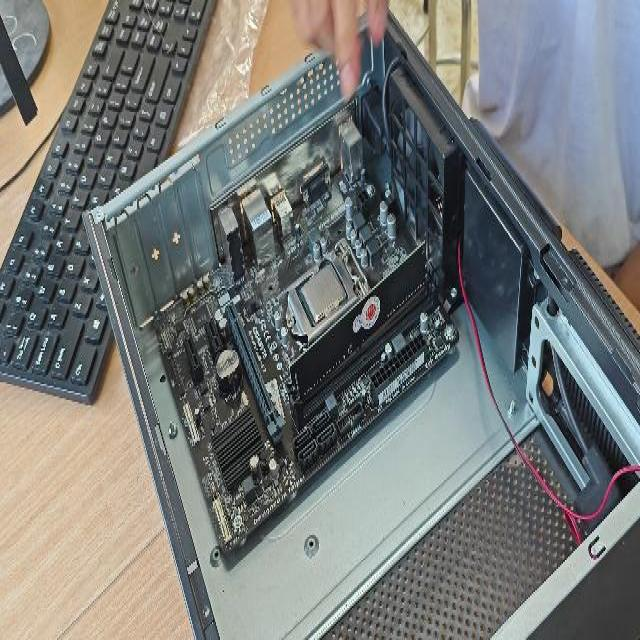CPU: (293, 257, 350, 323)
Mainboard: (152, 204, 460, 556)
RAM: (290, 239, 428, 412)
